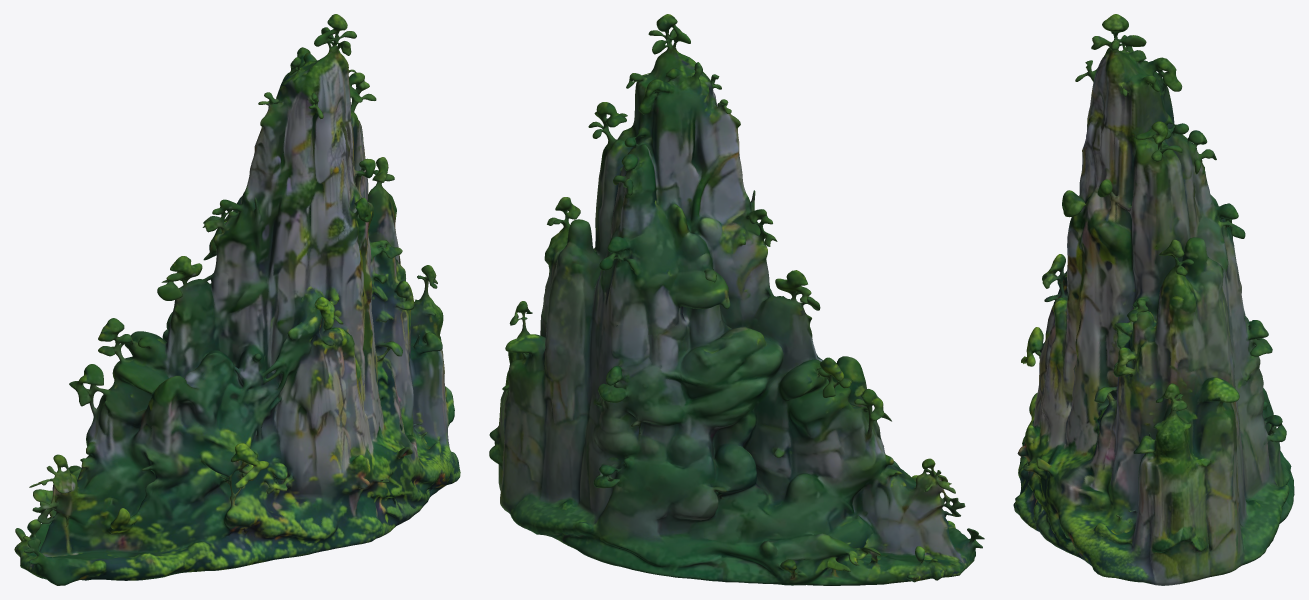
File: tripo_convert_8531391d-c4b3-401f-ba45-9c26da42bec2.fbx
The picture shows the model from 3 angles, left to right: view 1: azimuth 30°, elevation 25°; view 2: azimuth 150°, elevation 25°; view 3: azimuth 270°, elevation 25°; orthographic projection. The views are drawn at different scales.
Visible parts, largest first — view 1: tripo_node_8531391d; view 2: tripo_node_8531391d; view 3: tripo_node_8531391d.
Boxes of the visible parts, <box> form: tripo_node_8531391d: <box>14,14,460,585</box>; tripo_node_8531391d: <box>489,14,984,585</box>; tripo_node_8531391d: <box>1013,14,1294,585</box>.
Size of the model in its own units: 0.9627 by 0.9751 by 0.489.
